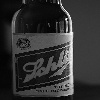beer: (9, 1, 83, 100)
